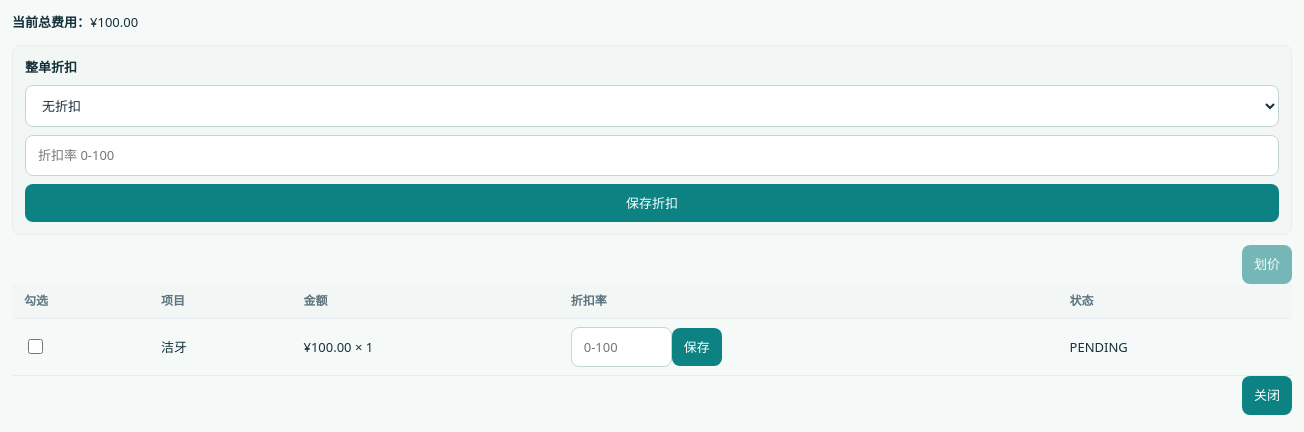
Scenario: PlanBillingDialog › rejects invalid plan and item discount rates
expect the text "洁牙" is shown: met, box [149,318,292,376]
Select "整单折" in the dropdown named "整单折扣类型": (652, 106) [25,85,1279,127]
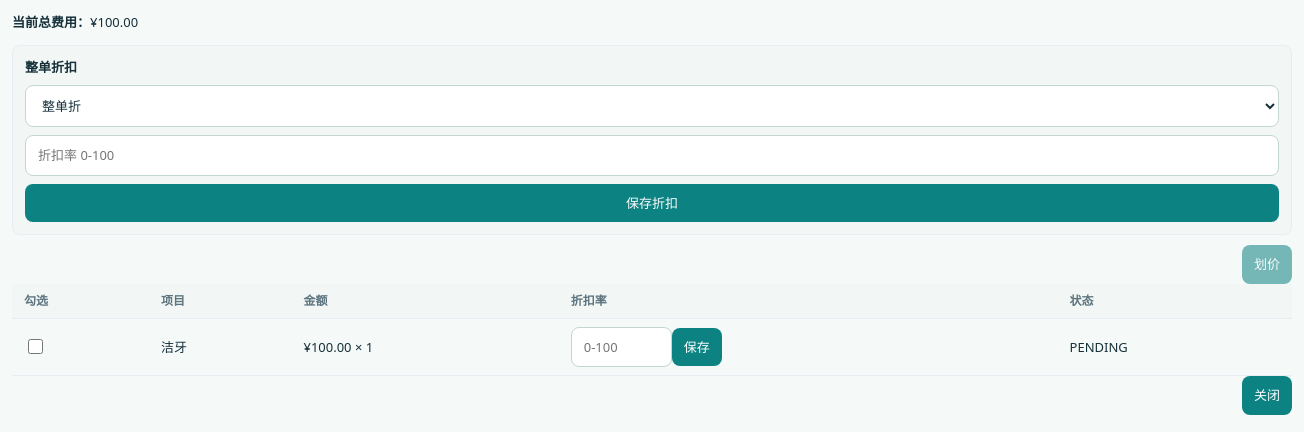
In the number field named "整单折扣率": (652, 155) [25,135,1279,176], type "120"
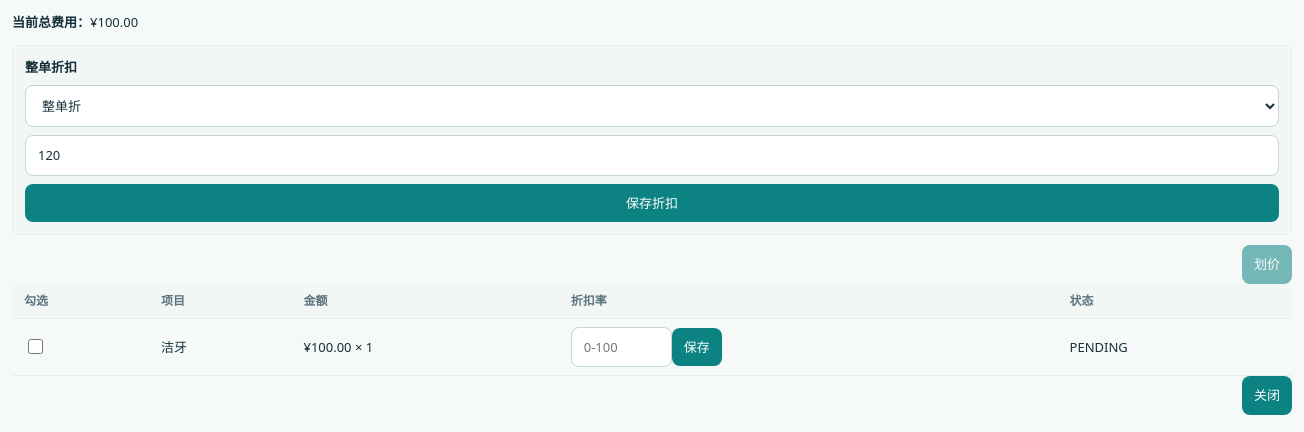
Click the button "保存折扣": click(652, 203) [25,184,1279,222]
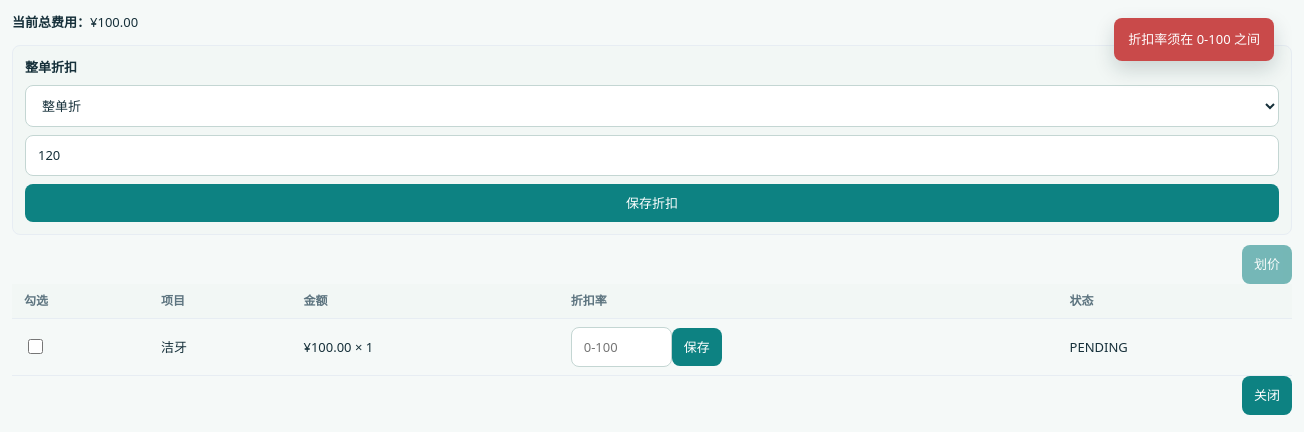
expect the text "折扣率须在 0-100 之间" is shown: met, box [1114,18,1274,61]
In the number field named "明细折扣 洁牙": (621, 347) [571,327,672,367], type "-1"
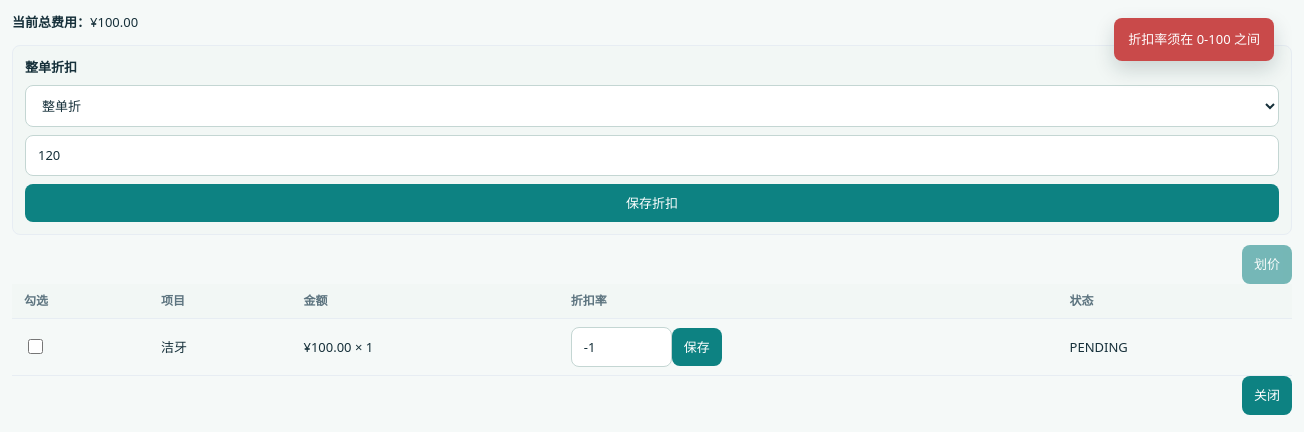
Click the button "保存": click(697, 347) [672,328,722,366]
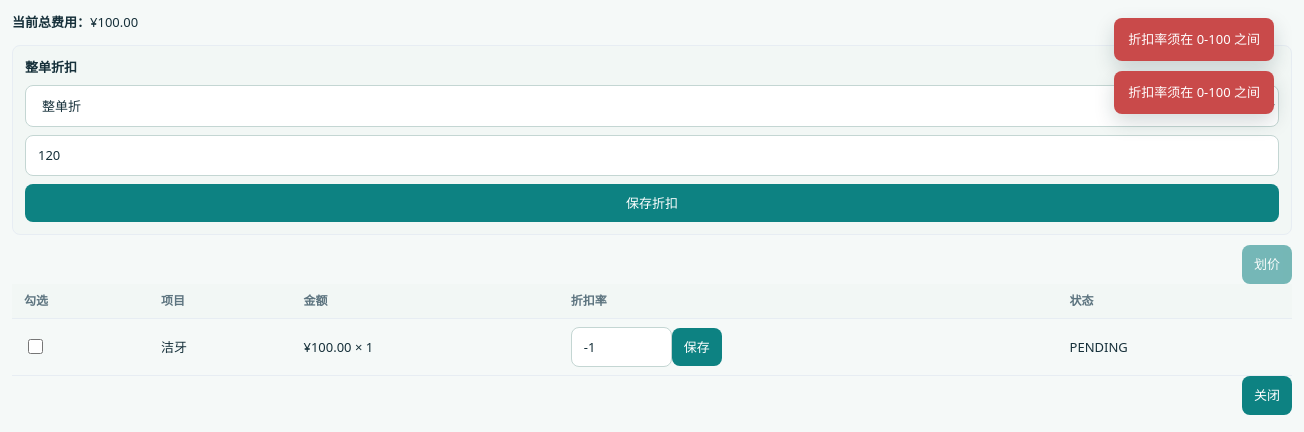
expect the text "折扣率须在 0-100 之间" is shown 2 times: met, box [1114,18,1274,61]; [1114,71,1274,114]
